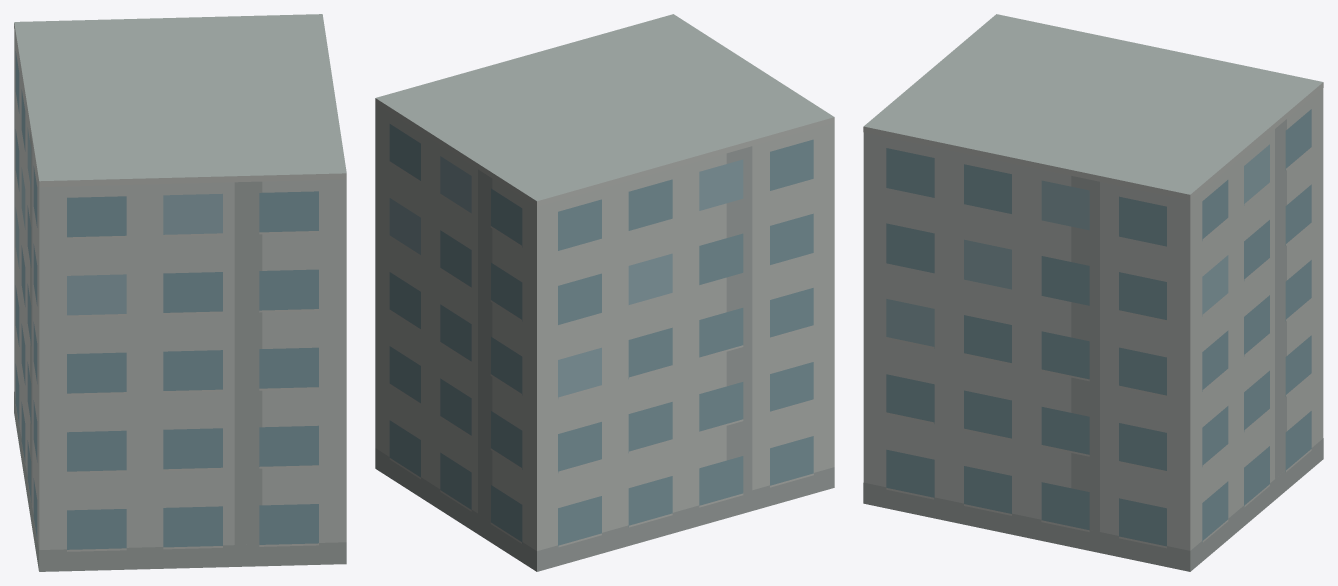
The model's file is survey-upis-32884401.glb.
3 views of the same model, side by side, from view 1: azimuth 30°, elevation 25°; view 2: azimuth 150°, elevation 25°; view 3: azimuth 270°, elevation 25° (orthographic). The views are drawn at different scales.
Parts seen in each view (by area): view 1: survey-upis-32884401.tmp; view 2: survey-upis-32884401.tmp; view 3: survey-upis-32884401.tmp.
Part boxes in pixels (x1,y1,x2,y2): survey-upis-32884401.tmp: (14,14,346,571); survey-upis-32884401.tmp: (375,14,834,571); survey-upis-32884401.tmp: (863,14,1323,571).
Bounding box in the file's own units: 16.2 × 15.75 × 17.42.
